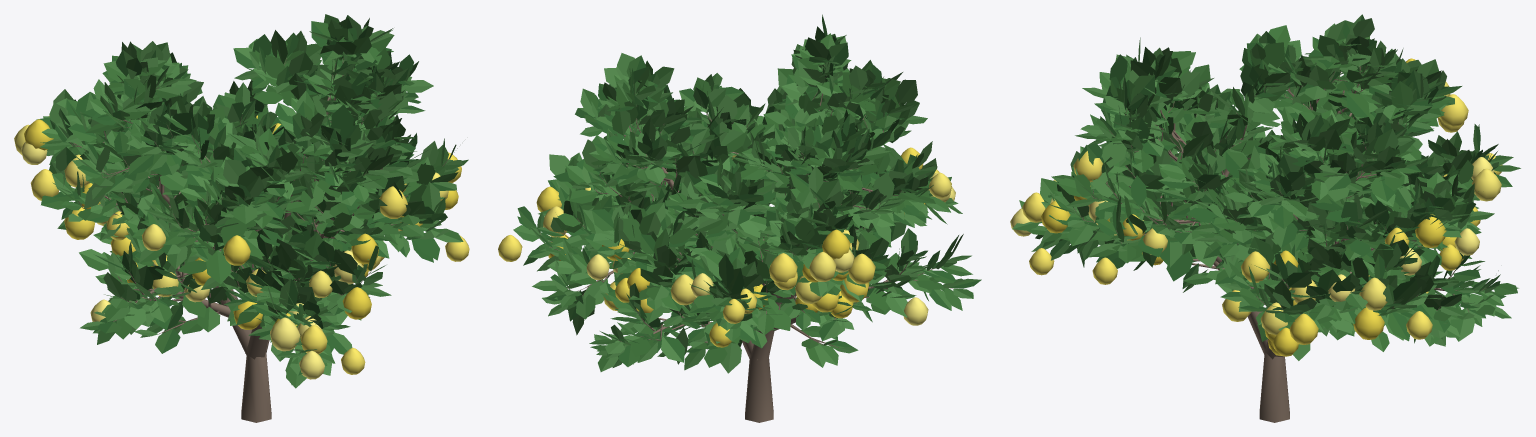
Rendered from cognassier_vranja_ete.glb.
3 renders of one model, left to right at view 1: azimuth 30°, elevation 25°; view 2: azimuth 150°, elevation 25°; view 3: azimuth 270°, elevation 25°, orthographic. The views are drawn at different scales.
Parts seen in each view (by area): view 1: Cognassier_Feuillage, Cognassier_Coings, Cognassier_Tronc; view 2: Cognassier_Feuillage, Cognassier_Coings, Cognassier_Tronc; view 3: Cognassier_Feuillage, Cognassier_Coings, Cognassier_Tronc.
Boxes of the visible parts, x1=… form: Cognassier_Feuillage: x1=36, y1=14, x2=468, y2=388; Cognassier_Coings: x1=14, y1=115, x2=469, y2=379; Cognassier_Tronc: x1=70, y1=58, x2=448, y2=422; Cognassier_Feuillage: x1=513, y1=14, x2=981, y2=373; Cognassier_Coings: x1=498, y1=147, x2=955, y2=347; Cognassier_Tronc: x1=537, y1=65, x2=952, y2=422; Cognassier_Feuillage: x1=1012, y1=14, x2=1520, y2=360; Cognassier_Coings: x1=1010, y1=58, x2=1502, y2=356; Cognassier_Tronc: x1=1073, y1=56, x2=1489, y2=422.
Bounding box in the file's own units: 3.26 × 2.7 × 3.42.
